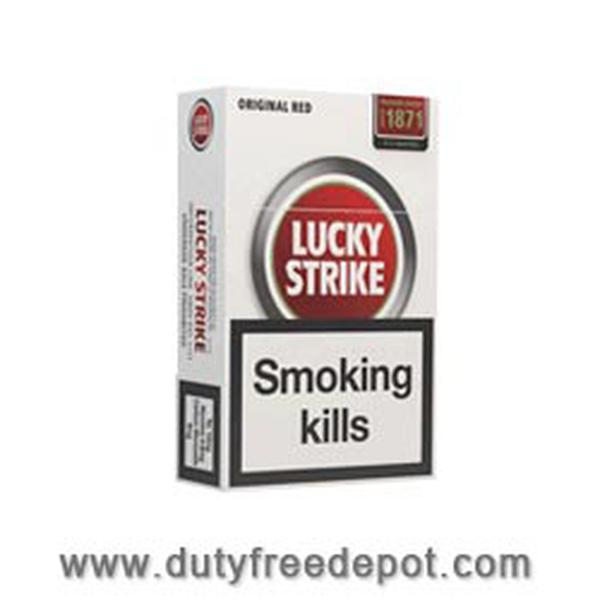lucky_strike_red: (220, 89, 433, 479)
